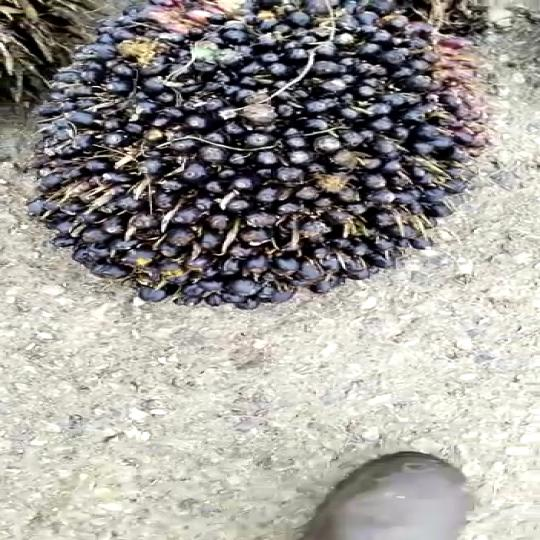mentah: (0, 0, 493, 308)
